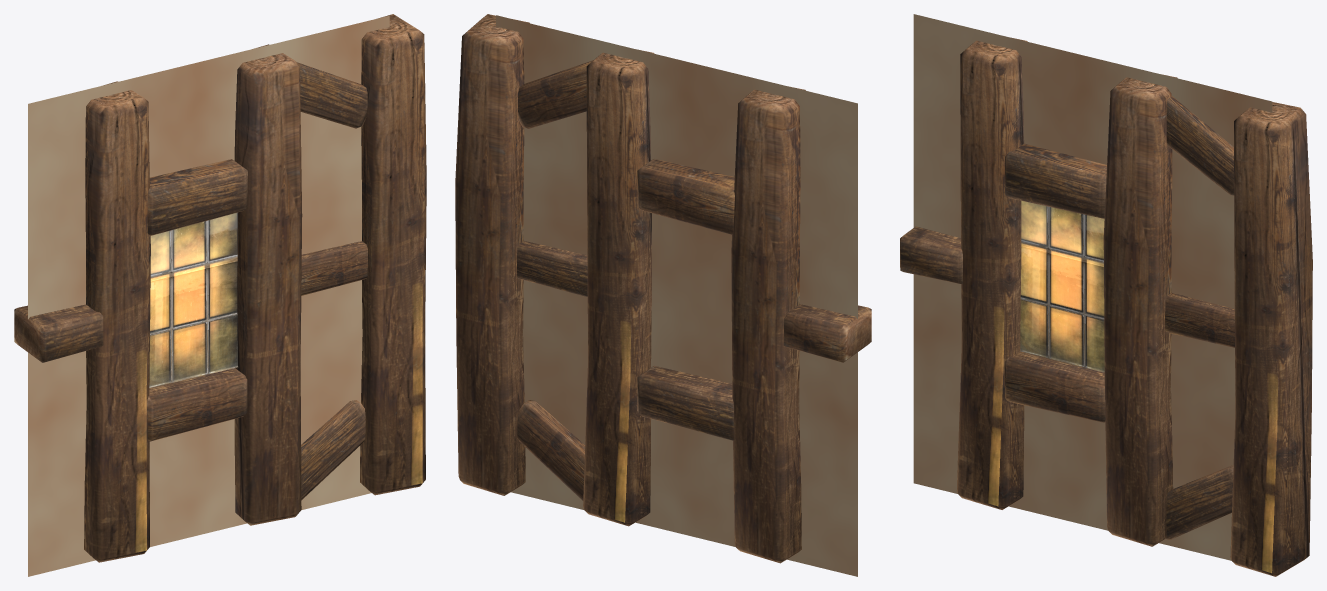
Rendered from 3 Wall wood window.fbx.
The picture shows the model from 3 angles, left to right: view 1: azimuth 30°, elevation 25°; view 2: azimuth 150°, elevation 25°; view 3: azimuth 330°, elevation 25°; orthographic projection.
Visible parts, largest first — view 1: 3 Wall wood window; view 2: 3 Wall wood window; view 3: 3 Wall wood window.
Boxes of the visible parts, <box> form: 3 Wall wood window: <box>14,14,426,576</box>; 3 Wall wood window: <box>455,14,871,576</box>; 3 Wall wood window: <box>900,14,1312,576</box>.
Bounding box in the file's own units: 2.15 × 2.5 × 0.336.
